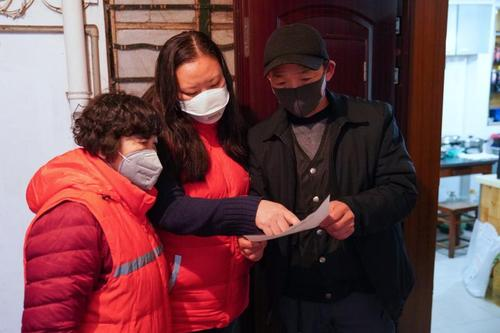yes_mask: (68, 88, 164, 192), (154, 28, 232, 128), (259, 26, 337, 119)
